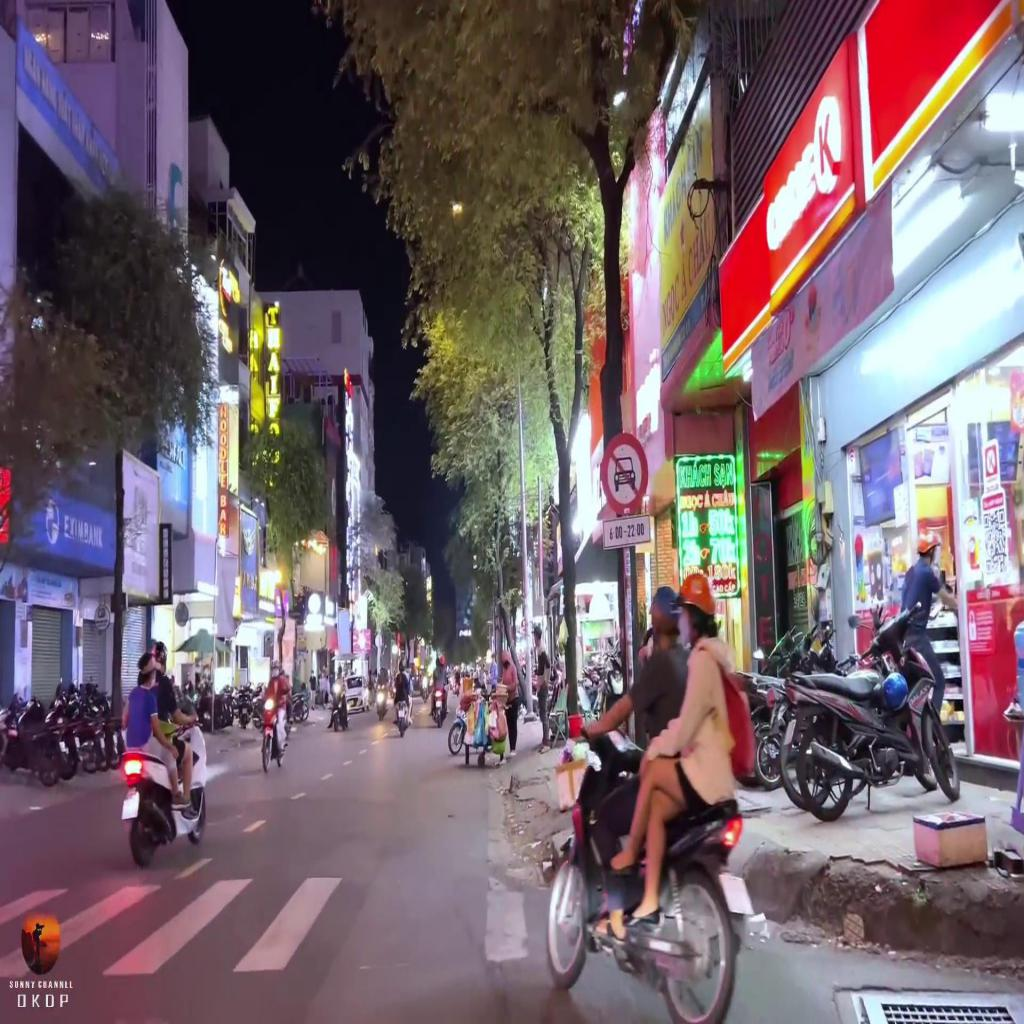cam_o_to: (601, 430, 649, 516)
khac: (604, 517, 651, 545)
